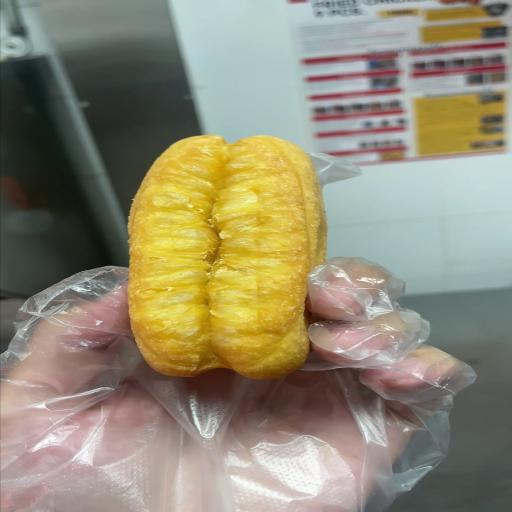brand_golden_good: (128, 135, 326, 378)
